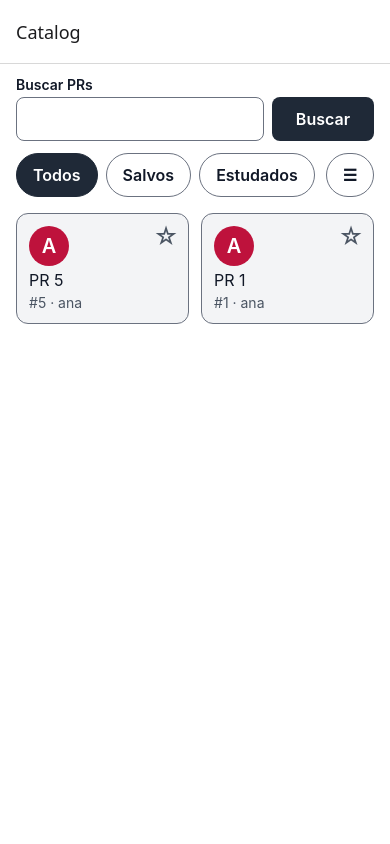
it: C30: Estudados lists each studied PR with its rating, without the network
The width and height of the screenshot is (390, 844).
expect the button with test id "catalog.card.0" is shown: met, box x1=17 y1=214 x2=188 y2=323
Click the button "Estudados" at (257, 175), box x1=199 y1=153 x2=315 y2=197
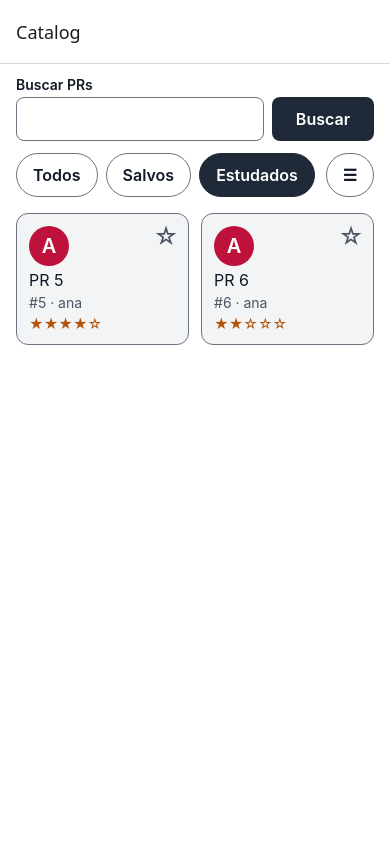
expect the button with aria-label "PR #5: PR 5, de ana, nota 4 de 5" is shown: met, box x1=17 y1=214 x2=188 y2=344
expect the button with aria-label "PR #6: PR 6, de ana, nota 2 de 5" is shown: met, box x1=202 y1=214 x2=373 y2=344
expect the text "★★★★☆" is shown: met, box x1=29 y1=315 x2=102 y2=332
Click the button with test id "catalog.save.0" at (166, 236), box x1=144 y1=214 x2=188 y2=258
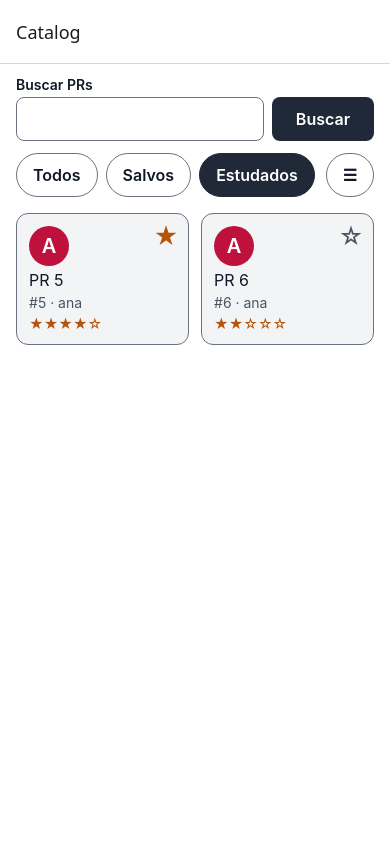
Click the button with test id "catalog.card.1" at (288, 279), box x1=202 y1=214 x2=373 y2=344
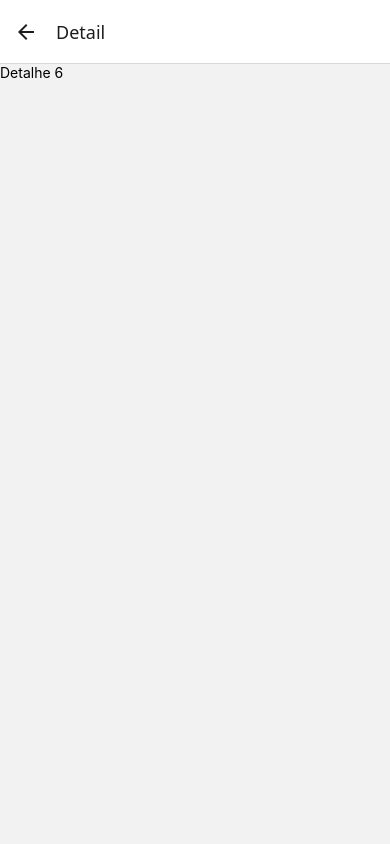
expect the text "Detalhe 6" is shown: met, box x1=0 y1=64 x2=63 y2=81
